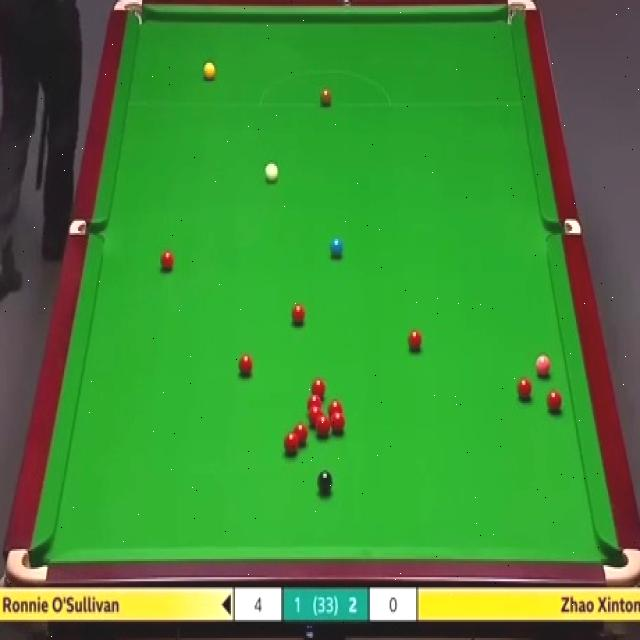black-ball: (317, 468, 333, 498)
blue-ball: (329, 236, 344, 257)
brown-ball: (319, 87, 332, 107)
pink-ball: (535, 352, 551, 378)
red-ball: (238, 352, 255, 380), (282, 432, 300, 457), (546, 390, 564, 413), (518, 377, 535, 401), (294, 425, 310, 449), (330, 412, 346, 436), (408, 328, 423, 353), (291, 304, 306, 326), (316, 414, 330, 437), (161, 250, 174, 273), (310, 378, 326, 395), (307, 393, 322, 410), (308, 407, 322, 425), (328, 402, 342, 415)
white-ball: (263, 161, 278, 187)
yellow-ball: (203, 62, 217, 83)
